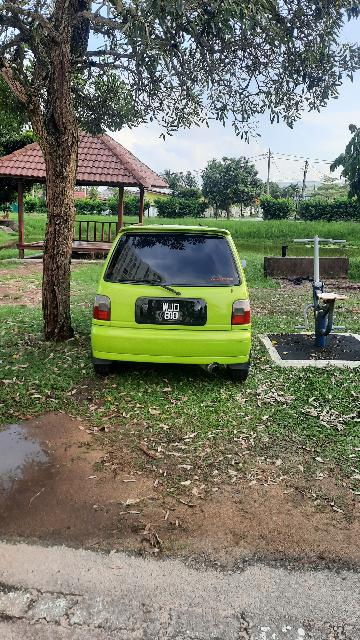License_Plate: (147, 297, 198, 325)
car: (90, 223, 253, 384)
